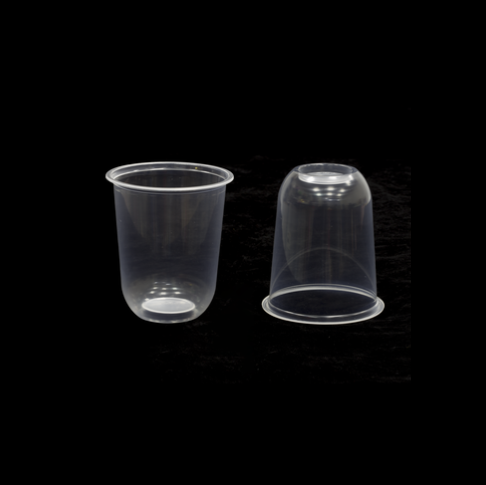plastic_glass: (259, 152, 395, 334), (102, 155, 236, 328)
